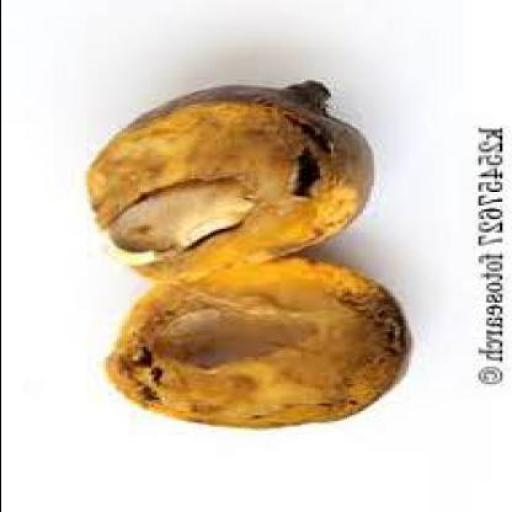biodegradable: (80, 77, 373, 282), (102, 254, 405, 429)
